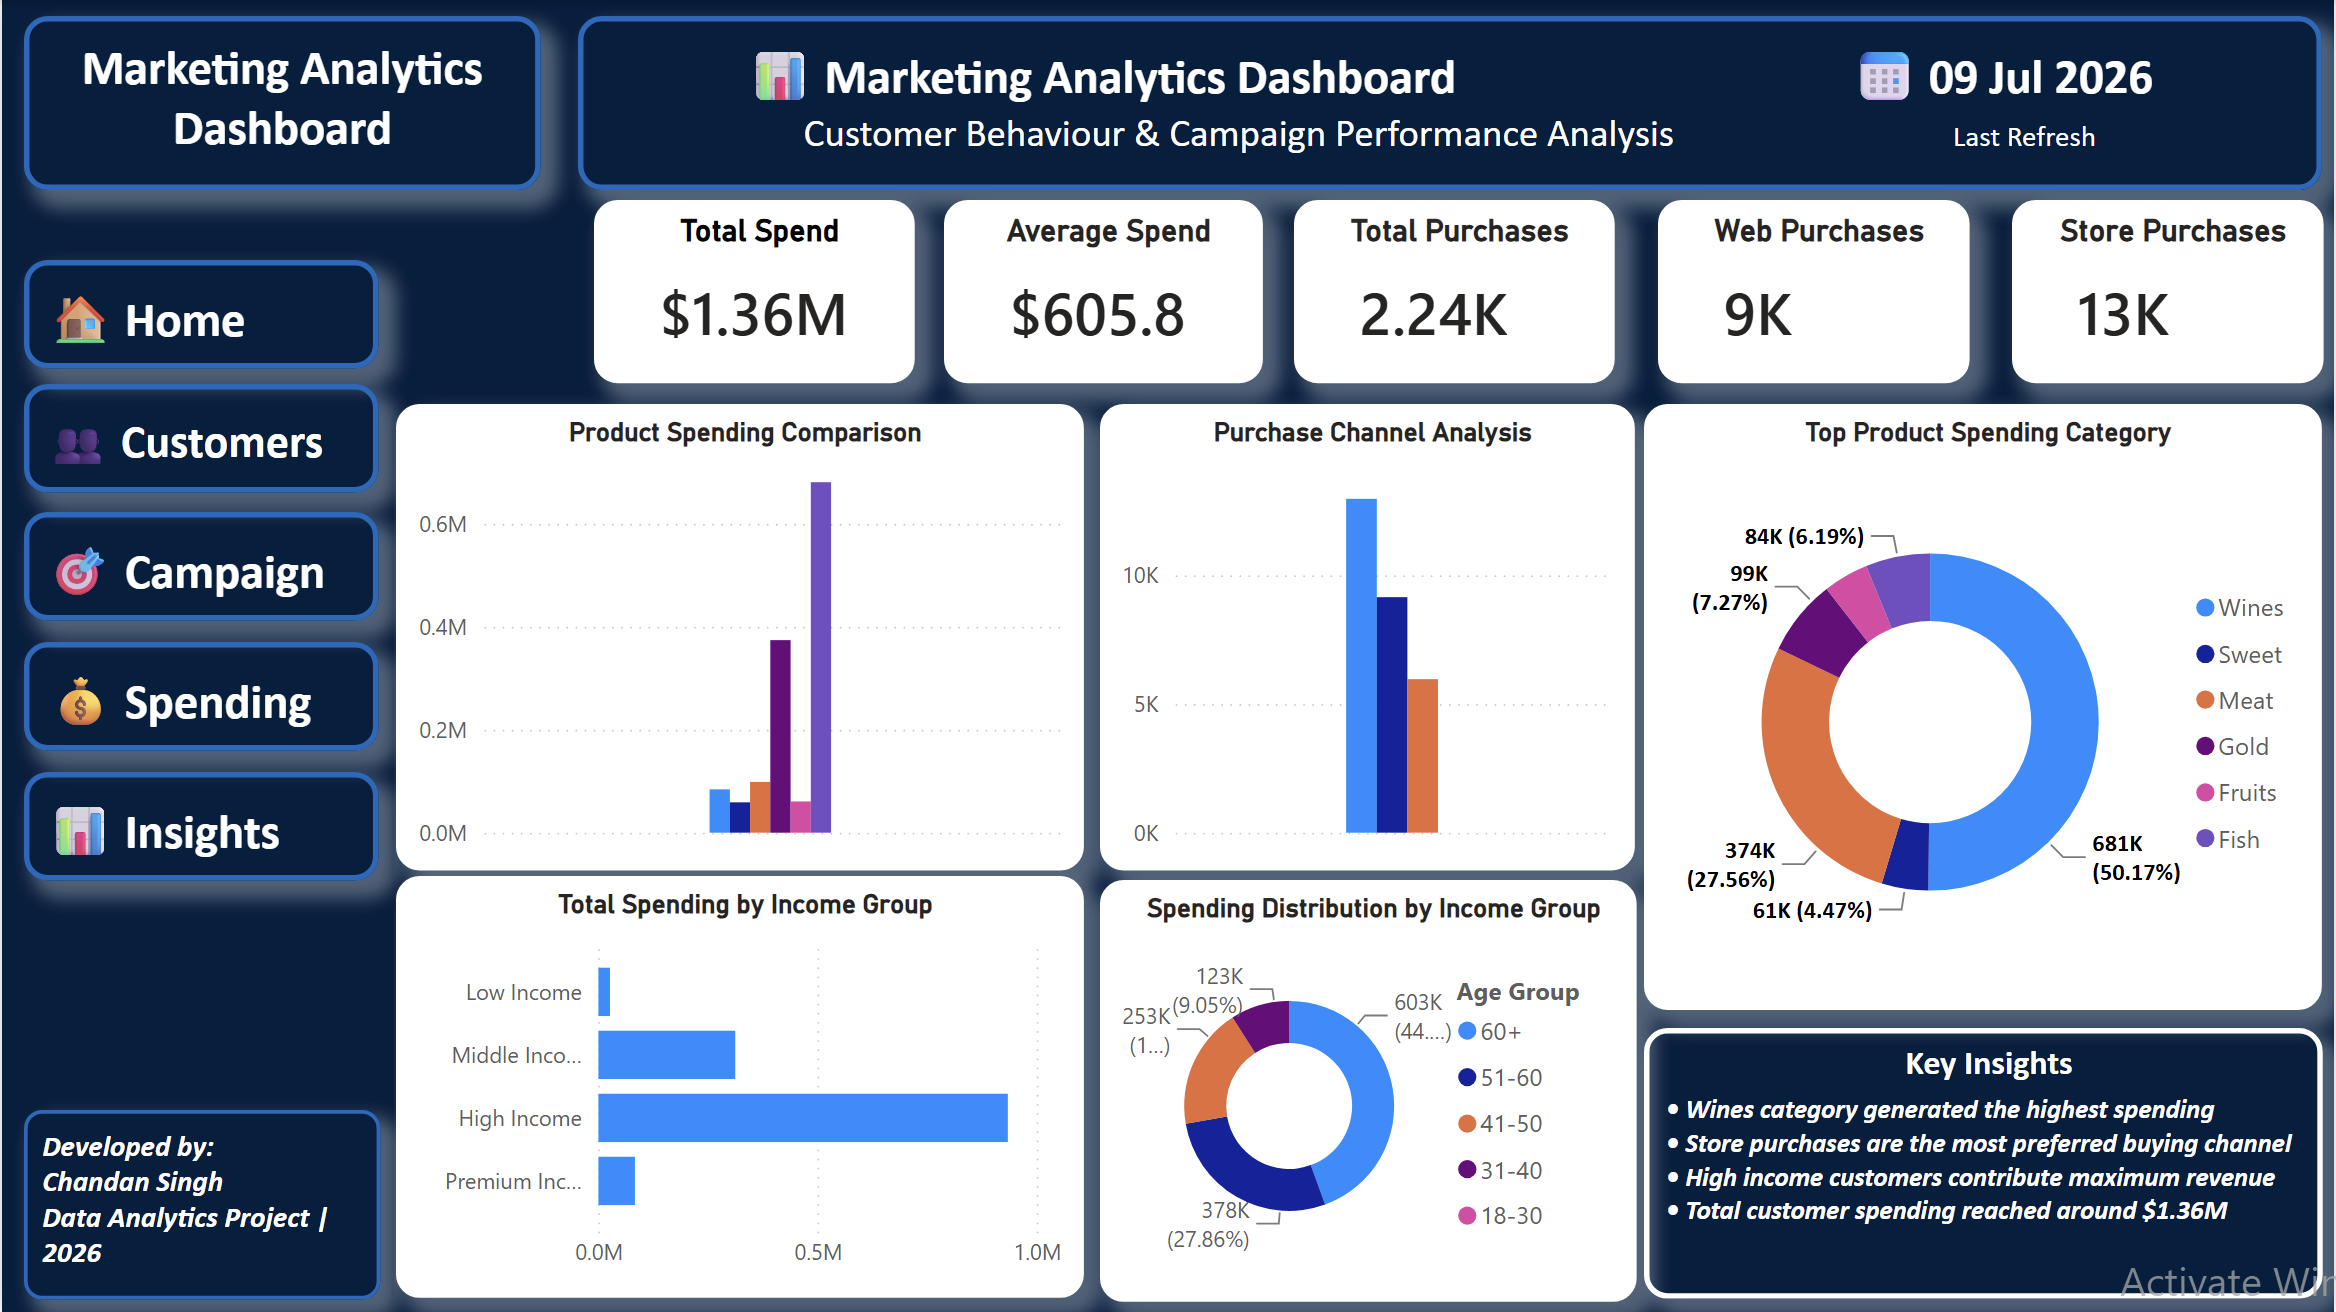

Layout of this report page (visuals, bound fields, positions):
{"tool":"powerbi","page":{"name":"Spending","canvas":[1280,720],"ordinal":3},"visuals":[{"type":"cardVisual","title":"Average Spend","fields":{"Data":["Avg(marketing_campaign.Total_Spend)"]},"box":[517.4,110.2,171,100.3],"z":1000},{"type":"cardVisual","title":"Total Spend","fields":{"Data":["Sum(marketing_campaign.Total_Spend)"]},"box":[318.1,110.2,176,100.3],"z":2000},{"type":"cardVisual","title":"Total Purchases","fields":{"Data":["CountNonNull(marketing_campaign.Total_Purchases)"]},"box":[709.3,110.2,170.8,100.3],"z":3000},{"type":"cardVisual","title":"Store Purchases","fields":{"Data":["Sum(marketing_campaign.NumStorePurchases)"]},"box":[1103,110.2,171,100.3],"z":4000},{"type":"donutChart","title":"Spending Distribution by Income Group","fields":{"Category":["marketing_campaign.Income Group"],"Y":["Sum(marketing_campaign.Total_Spend)"]},"box":[602.9,482.8,294.6,231.5],"z":5000},{"type":"clusteredColumnChart","title":"Product Spending Comparison","fields":{"Y":["Sum(marketing_campaign.MntFishProducts)","Sum(marketing_campaign.MntFruits)","Sum(marketing_campaign.MntGoldProds)","Sum(marketing_campaign.MntMeatProducts)","Sum(marketing_campaign.MntSweetProducts)","Sum(marketing_campaign.MntWines)"]},"box":[216.6,221.6,377.6,256.2],"z":6000},{"type":"donutChart","title":"Top Product Spending Category","fields":{"Y":["Sum(marketing_campaign.MntWines)","Sum(marketing_campaign.MntSweetProducts)","Sum(marketing_campaign.MntMeatProducts)","Sum(marketing_campaign.MntGoldProds)","Sum(marketing_campaign.MntFruits)","Sum(marketing_campaign.MntFishProducts)"]},"box":[901.2,221.6,371.4,333],"z":7000},{"type":"clusteredBarChart","title":"Total Spending By Income Group","fields":{"Category":["marketing_campaign.Income Group"],"Y":["Sum(marketing_campaign.Total_Spend)"]},"box":[216.6,481.5,377.6,231.5],"z":8000},{"type":"clusteredColumnChart","title":"Purchase Channel Analysis","fields":{"Y":["Sum(marketing_campaign.NumDealsPurchases)","Sum(marketing_campaign.NumStorePurchases)","Sum(marketing_campaign.NumWebPurchases)"]},"box":[602.9,221.6,293.4,256.2],"z":9000},{"type":"textbox","box":[315.7,8.7,956.9,95.3],"z":10000},{"type":"textbox","title":"Key Insights","box":[901.2,564.5,372.6,148.5],"z":11000},{"type":"shape","box":[0,141.9,215.4,578.1],"z":12000},{"type":"textbox","box":[12.4,8.7,283.5,95.3],"z":13000},{"type":"actionButton","box":[12.4,142.4,194.4,59.4],"z":14000},{"type":"actionButton","box":[12.4,210.4,194.4,59.4],"z":15000},{"type":"actionButton","box":[12.4,281,194.4,59.4],"z":16000},{"type":"actionButton","box":[12.4,352.8,194.4,59.4],"z":17000},{"type":"actionButton","box":[12.4,423.4,194.4,59.4],"z":18000},{"type":"textbox","box":[12.4,609.1,195.6,104],"z":19000},{"type":"cardVisual","title":"Web Purchases","fields":{"Data":["Sum(marketing_campaign.NumWebPurchases)"]},"box":[901.2,110.2,175.8,100.3],"z":19001}]}

Visuals, with their boxes in screenshot pixels (x1, y1, x2, y2), scaled from the page's 1280x720 canvas onto the 2336x1312 screenshot:
"Average Spend" cardVisual: 944 201 1256 384
"Total Spend" cardVisual: 581 201 902 384
"Total Purchases" cardVisual: 1294 201 1606 384
"Store Purchases" cardVisual: 2013 201 2325 384
"Spending Distribution by Income Group" donutChart: 1100 880 1638 1302
"Product Spending Comparison" clusteredColumnChart: 395 404 1084 871
"Top Product Spending Category" donutChart: 1645 404 2322 1011
"Total Spending By Income Group" clusteredBarChart: 395 877 1084 1299
"Purchase Channel Analysis" clusteredColumnChart: 1100 404 1636 871
textbox: 576 16 2322 190
"Key Insights" textbox: 1645 1029 2325 1299
shape: 0 259 393 1311
textbox: 23 16 540 190
actionButton: 23 259 377 368
actionButton: 23 383 377 492
actionButton: 23 512 377 620
actionButton: 23 643 377 751
actionButton: 23 772 377 880
textbox: 23 1110 380 1299
"Web Purchases" cardVisual: 1645 201 1966 384
